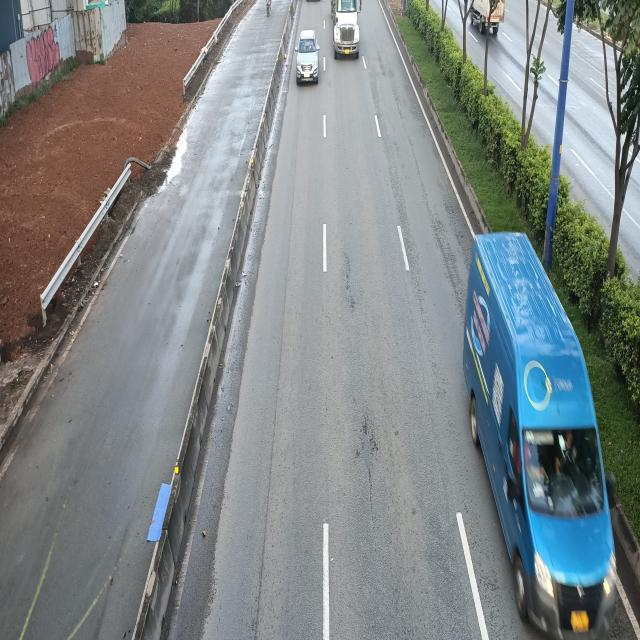car: (295, 29, 320, 84)
container: (332, 0, 363, 58)
van: (466, 231, 620, 639)
